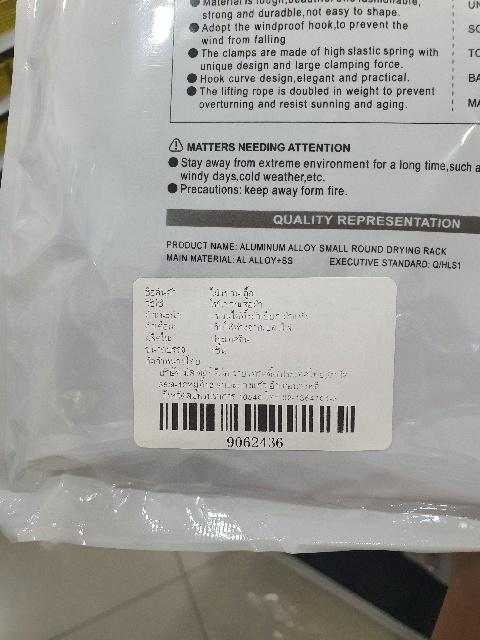Barcode: (151, 395, 364, 448)
